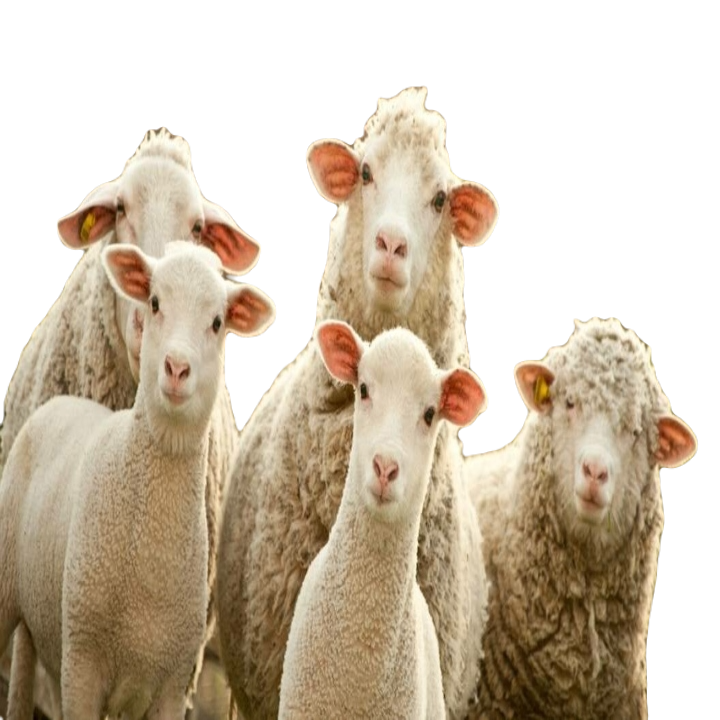Sheep: (107, 227, 293, 686), (513, 291, 720, 687), (319, 310, 497, 689), (314, 74, 523, 311)
